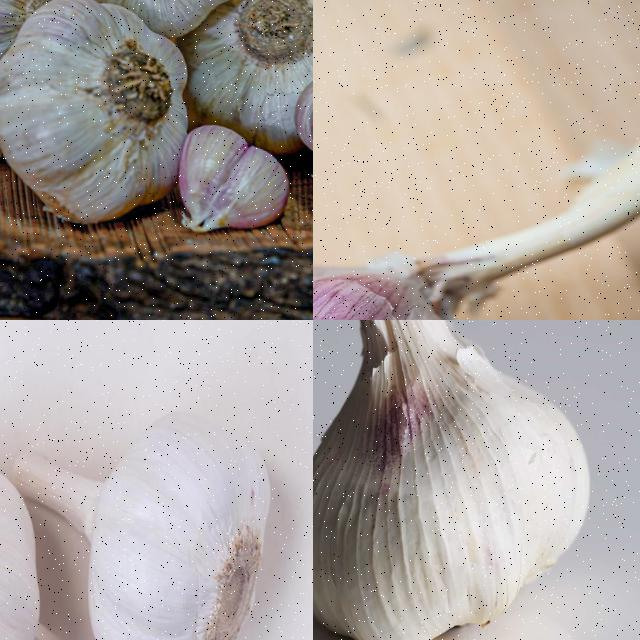garlic: (313, 320, 591, 639), (10, 404, 273, 639), (0, 0, 192, 222), (0, 442, 112, 639), (161, 0, 312, 146), (181, 124, 286, 241), (0, 0, 75, 79)
